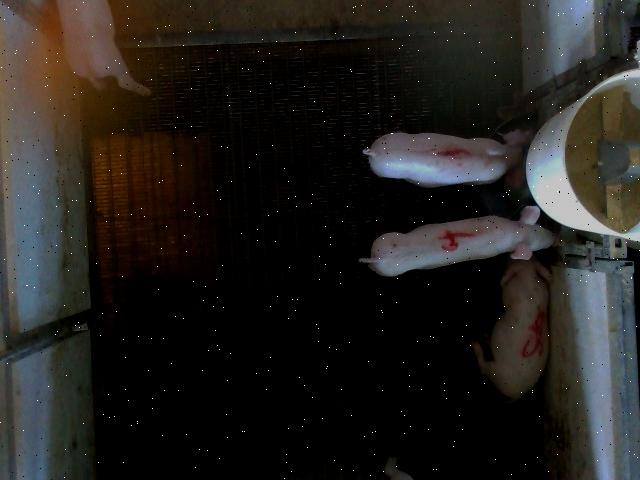pig-1: (362, 130, 534, 191)
pig-4: (359, 206, 555, 276)
pig-5: (470, 257, 551, 405)
